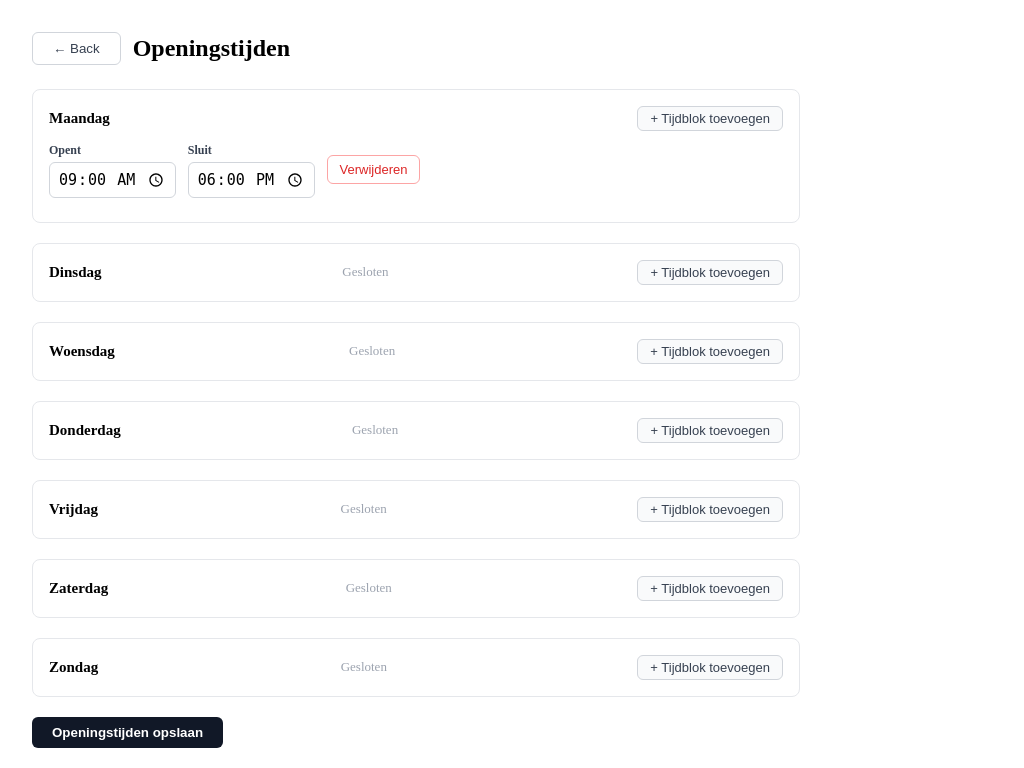
Test: ShopOpeningHours › Add Time Block button adds a new row to the form
Check: the text "Maandag" is shown, box [49, 110, 110, 127]
Click the button "+ Tijdblok toevoegen" in the row of "Maandag".
click(710, 118)  # box [637, 106, 783, 131]
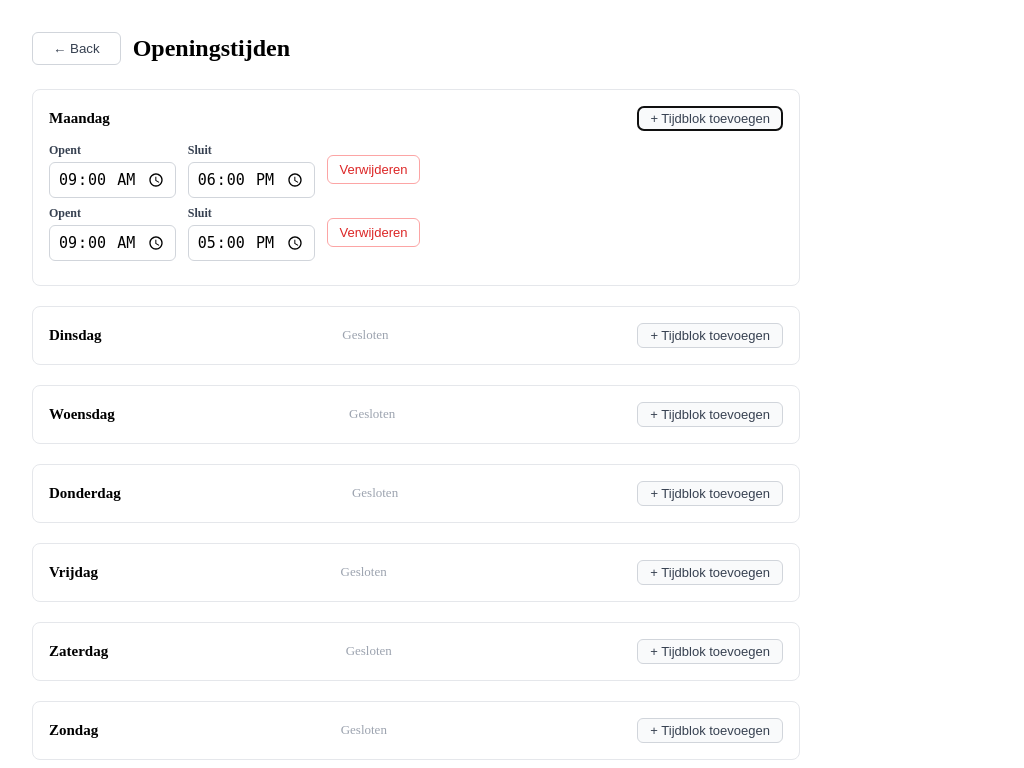
Check: the number of buttons "Verwijderen" is 2, box [326, 155, 420, 184]; [326, 218, 420, 247]
